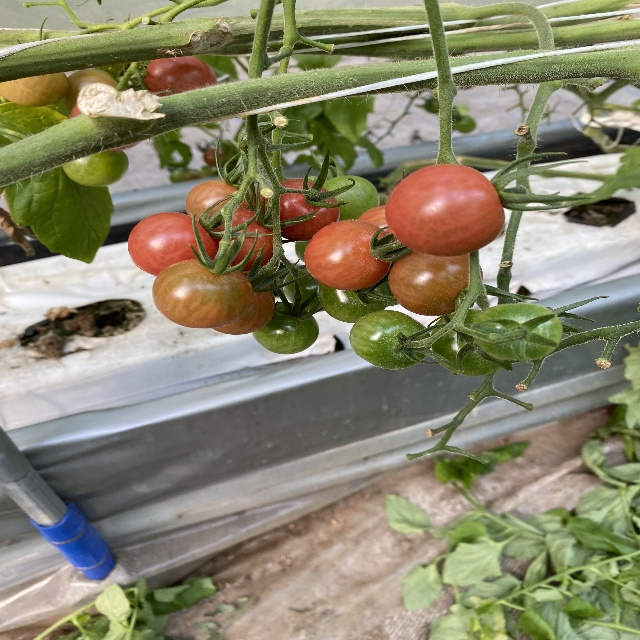l_fully_ripened: (384, 161, 504, 257), (128, 211, 219, 276), (203, 199, 275, 271), (264, 178, 342, 241), (145, 56, 217, 98)
l_green: (432, 309, 513, 376), (472, 302, 562, 361), (348, 309, 431, 370), (251, 302, 319, 354), (317, 281, 390, 323), (323, 176, 380, 221), (63, 150, 130, 188), (283, 266, 324, 313)
l_half_ripened: (152, 260, 252, 330), (304, 219, 395, 291), (390, 252, 483, 316), (211, 272, 276, 334), (185, 180, 266, 222), (63, 69, 125, 110), (1, 72, 67, 107)
